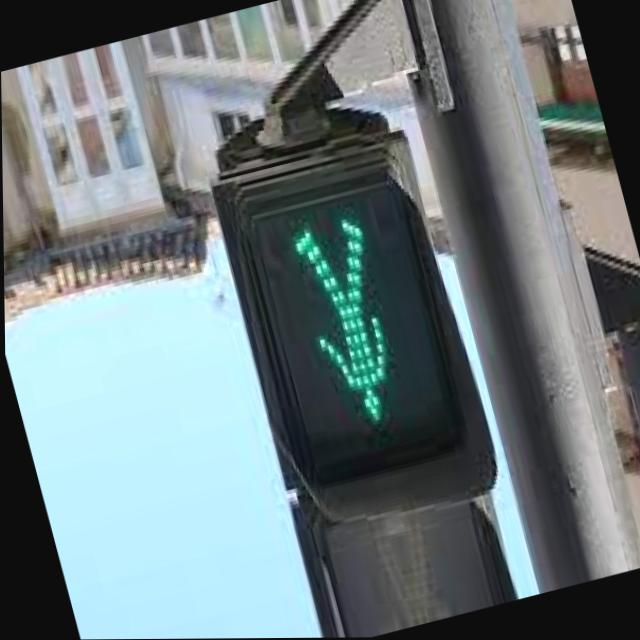green_light: (252, 183, 457, 476)
